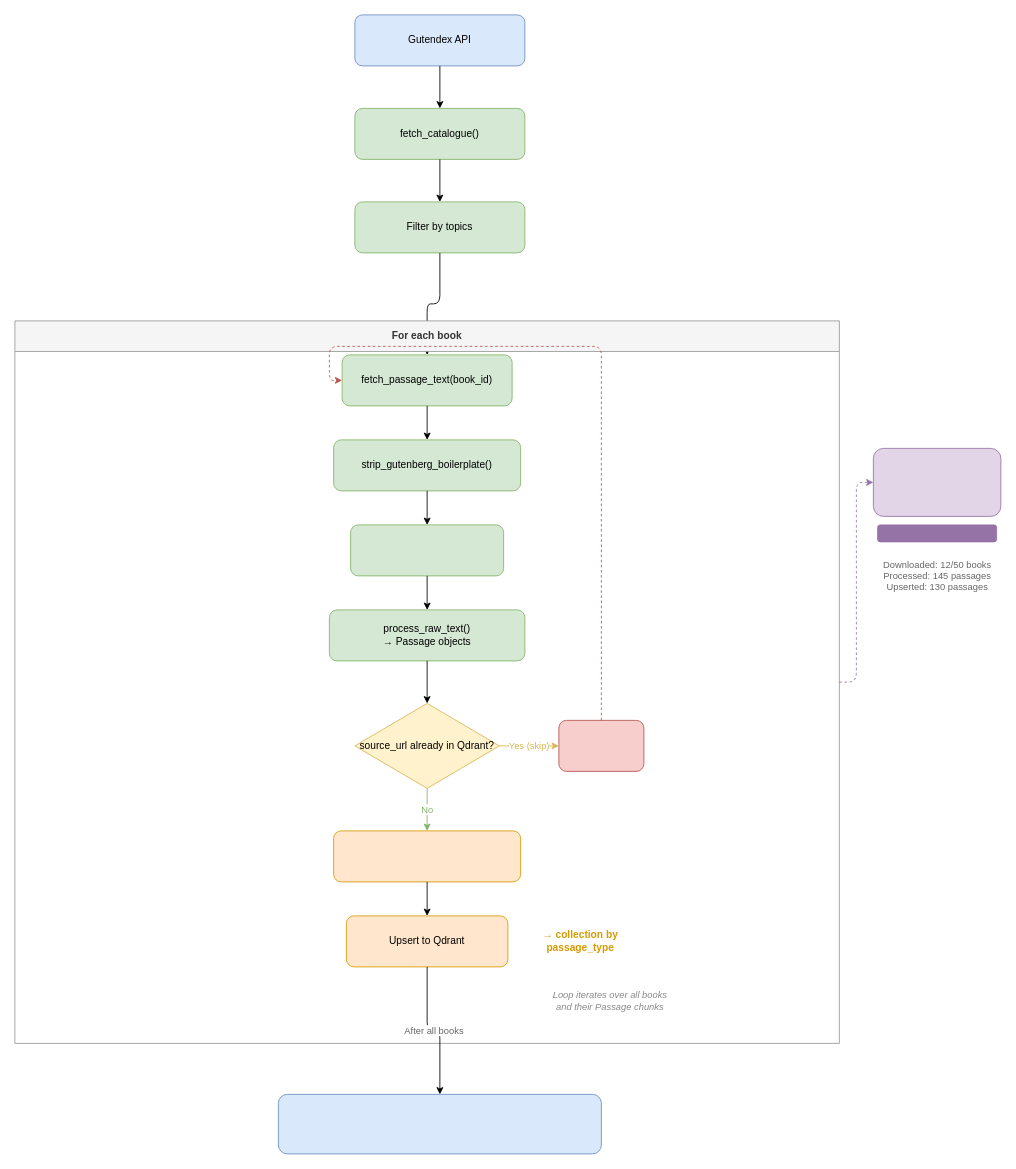
This 1016x1169 diagram has some shape labels left out. The shapes that lost their labels are listed below. From the top down, each one's box as (x1, y1, x2, y2) in pixels, then its label:
(873, 448, 1001, 516): Progress bar (tqdm)
(350, 524, 504, 576): chunk_text()
(558, 720, 644, 771): Skip (already exists)
(333, 830, 521, 882): Embed with SentenceTransformer (BGE)
(278, 1094, 601, 1154): StatsTracker: report totals by type / category / reading level
